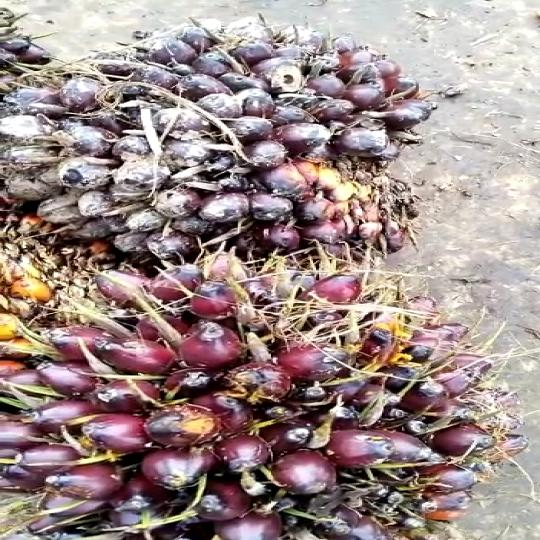kurang masak: (0, 254, 506, 536), (0, 28, 455, 274)
